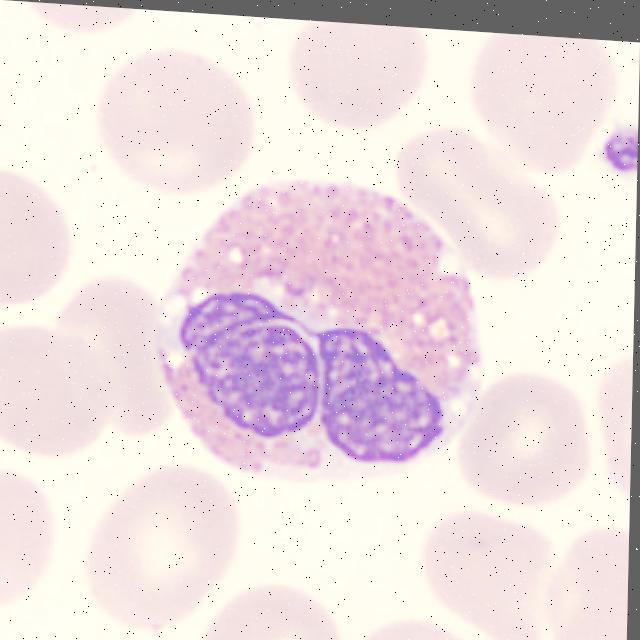eosinophil: (155, 171, 489, 495)
rbc: (86, 467, 255, 636), (400, 152, 615, 282), (453, 355, 592, 514), (96, 59, 254, 198), (59, 285, 190, 447), (408, 507, 557, 640), (472, 32, 612, 164), (287, 20, 424, 146), (0, 331, 119, 464), (548, 514, 629, 640), (0, 175, 72, 315), (185, 587, 344, 640), (0, 482, 58, 623), (27, 2, 149, 36), (358, 626, 526, 640)
